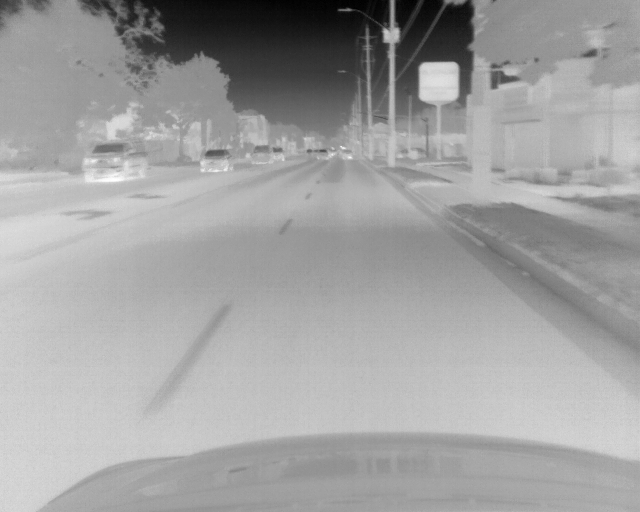car: (81, 141, 146, 183), (201, 149, 232, 175), (250, 145, 274, 164), (274, 147, 285, 164), (316, 148, 329, 161), (340, 148, 353, 161)
